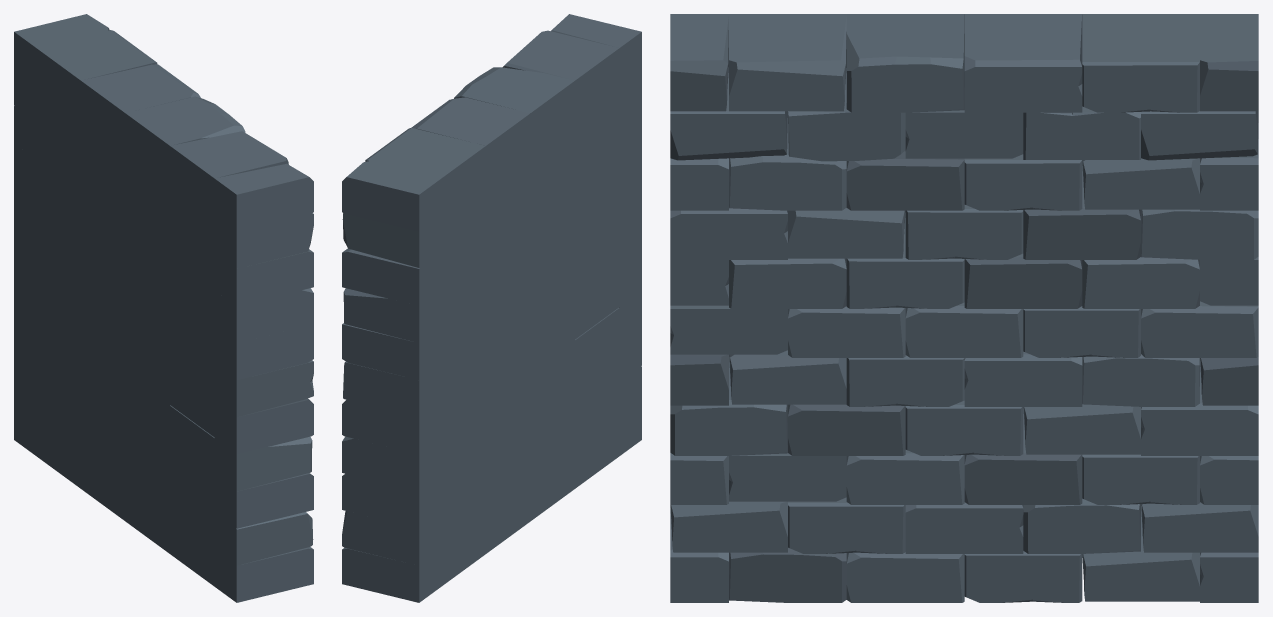
File: blockWall.fbx
3 renders of one model, left to right at view 1: azimuth 30°, elevation 25°; view 2: azimuth 150°, elevation 25°; view 3: azimuth 270°, elevation 25°, orthographic. The views are drawn at different scales.
Parts seen in each view (by area): view 1: wall_model_1; view 2: wall_model_1; view 3: wall_model_1.
Part boxes in pixels (x1=…): wall_model_1: x1=14, y1=14, x2=313, y2=602; wall_model_1: x1=342, y1=14, x2=641, y2=602; wall_model_1: x1=670, y1=14, x2=1258, y2=602.
Size of the model in its own units: 200 by 1016 by 1000.
